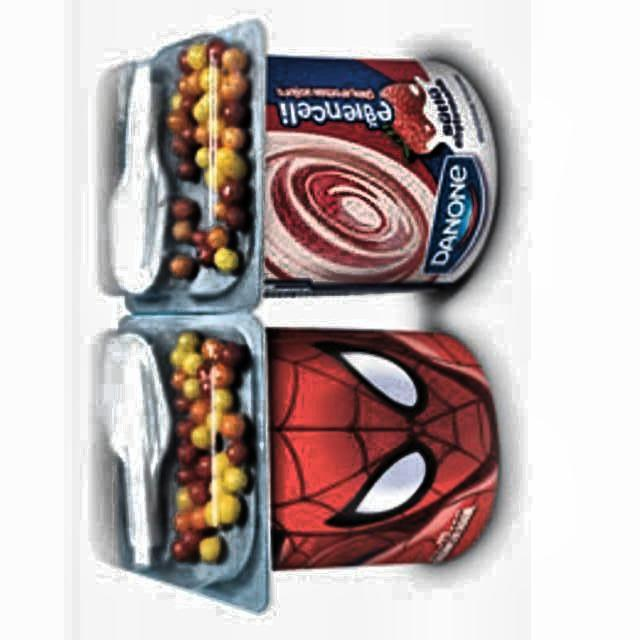plastic: (101, 21, 498, 611)
